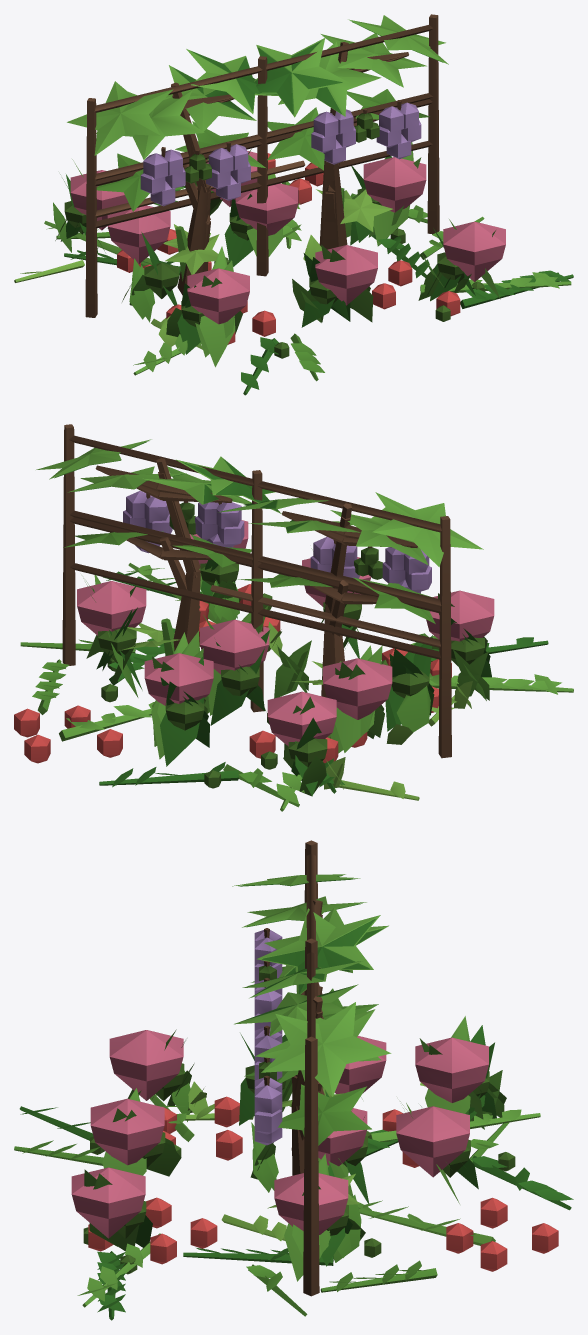
The model's file is crops-autumn.glb.
The picture shows the model from 3 angles, top to bottom: view 1: azimuth 30°, elevation 25°; view 2: azimuth 150°, elevation 25°; view 3: azimuth 270°, elevation 25°; orthographic projection. The views are drawn at different scales.
Parts seen in each view (by area): view 1: SM_crop_grape_s4, SM_crop_beetroot_s4, SM_crop_beetroot_s3, SM_crop_grape_s2, SM_crop_cranberry_s4, SM_crop_grape_s3, SM_crop_cranberry_s3, SM_crop_grape_s1, SM_crop_beetroot_s2, SM_crop_cranberry_s2, SM_crop_cranberry_s1, SM_crop_beetroot_s1; view 2: SM_crop_grape_s4, SM_crop_beetroot_s4, SM_crop_beetroot_s3, SM_crop_cranberry_s4, SM_crop_grape_s2, SM_crop_grape_s3, SM_crop_beetroot_s2, SM_crop_cranberry_s3, SM_crop_grape_s1, SM_crop_cranberry_s2, SM_crop_beetroot_s1, SM_crop_cranberry_s1; view 3: SM_crop_beetroot_s4, SM_crop_grape_s4, SM_crop_cranberry_s4, SM_crop_cranberry_s3, SM_crop_beetroot_s3, SM_crop_beetroot_s2, SM_crop_cranberry_s2, SM_crop_grape_s3, SM_crop_grape_s2, SM_crop_cranberry_s1.
Boxes of the visible parts, bbox=[...] form: SM_crop_grape_s4: bbox=[67, 14, 448, 317]; SM_crop_beetroot_s4: bbox=[70, 142, 505, 367]; SM_crop_beetroot_s3: bbox=[60, 156, 479, 354]; SM_crop_grape_s2: bbox=[85, 89, 439, 317]; SM_crop_cranberry_s4: bbox=[44, 153, 571, 375]; SM_crop_grape_s3: bbox=[86, 21, 443, 317]; SM_crop_cranberry_s3: bbox=[64, 186, 573, 395]; SM_crop_grape_s1: bbox=[88, 160, 431, 317]; SM_crop_beetroot_s2: bbox=[53, 194, 444, 336]; SM_crop_cranberry_s2: bbox=[56, 193, 484, 381]; SM_crop_cranberry_s1: bbox=[14, 260, 202, 349]; SM_crop_beetroot_s1: bbox=[122, 235, 321, 346]; SM_crop_grape_s4: bbox=[36, 424, 483, 757]; SM_crop_beetroot_s4: bbox=[77, 520, 494, 768]; SM_crop_beetroot_s3: bbox=[91, 560, 491, 796]; SM_crop_cranberry_s4: bbox=[14, 563, 573, 811]; SM_crop_grape_s2: bbox=[62, 511, 451, 757]; SM_crop_grape_s3: bbox=[54, 439, 445, 758]; SM_crop_beetroot_s2: bbox=[108, 580, 489, 796]; SM_crop_cranberry_s3: bbox=[99, 571, 548, 793]; SM_crop_grape_s1: bbox=[71, 585, 451, 757]; SM_crop_cranberry_s2: bbox=[20, 633, 437, 807]; SM_crop_beetroot_s1: bbox=[267, 622, 472, 789]; SM_crop_cranberry_s1: bbox=[339, 695, 456, 800]; SM_crop_beetroot_s4: bbox=[71, 1016, 488, 1281]; SM_crop_grape_s4: bbox=[232, 840, 391, 1296]; SM_crop_cranberry_s4: bbox=[77, 1094, 558, 1307]; SM_crop_cranberry_s3: bbox=[19, 1106, 573, 1320]; SM_crop_beetroot_s3: bbox=[117, 1025, 496, 1266]; SM_crop_beetroot_s2: bbox=[146, 1063, 506, 1262]; SM_crop_cranberry_s2: bbox=[14, 1122, 508, 1316]; SM_crop_grape_s3: bbox=[238, 875, 383, 1294]; SM_crop_grape_s2: bbox=[244, 966, 378, 1295]; SM_crop_cranberry_s1: bbox=[184, 1082, 425, 1240].
Size of the model in its own units: 1.72 by 0.8249 by 1.64.
